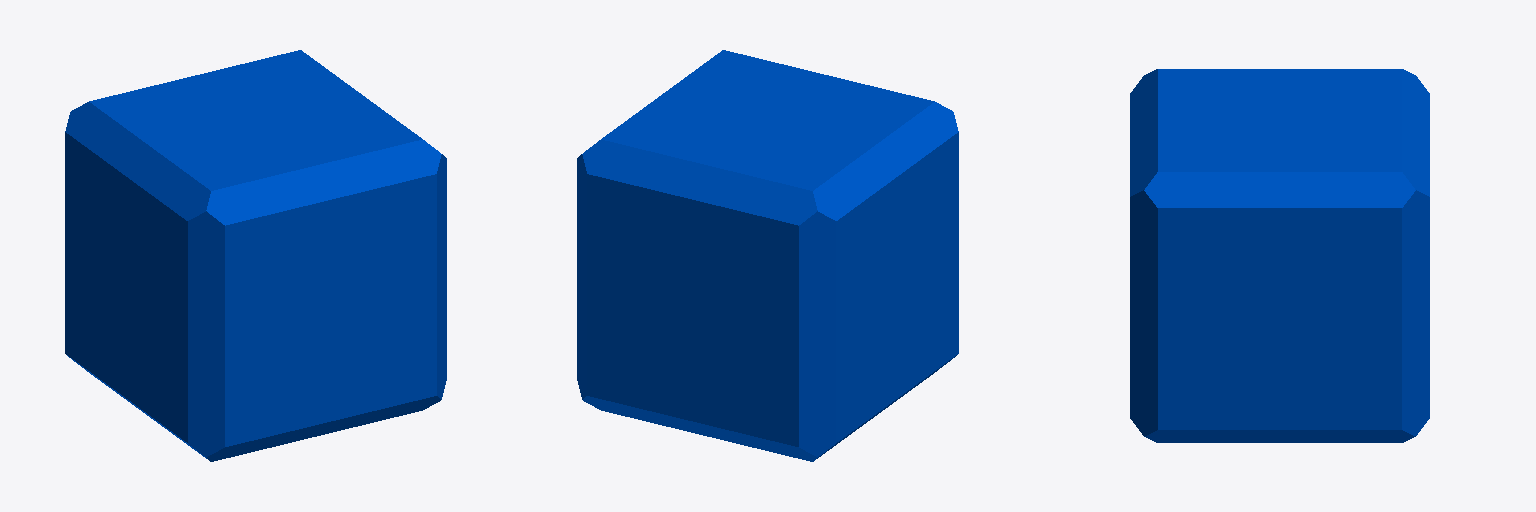
Rendered from SinglePiece-2.obj.
The picture shows the model from 3 angles: view 1: azimuth 30°, elevation 25°; view 2: azimuth 150°, elevation 25°; view 3: azimuth 270°, elevation 25°; orthographic projection.
Parts seen in each view (by area): view 1: Cube; view 2: Cube; view 3: Cube.
Boxes of the visible parts, <box> form: Cube: <box>65,50,446,461</box>; Cube: <box>577,50,958,461</box>; Cube: <box>1130,69,1429,442</box>.
Bounding box in the file's own units: 1 × 1 × 1.